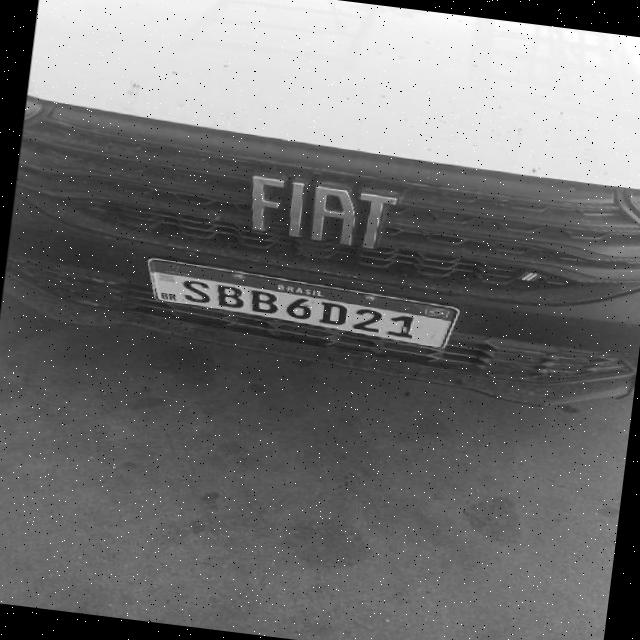placa_mercosul: (149, 259, 458, 353)
